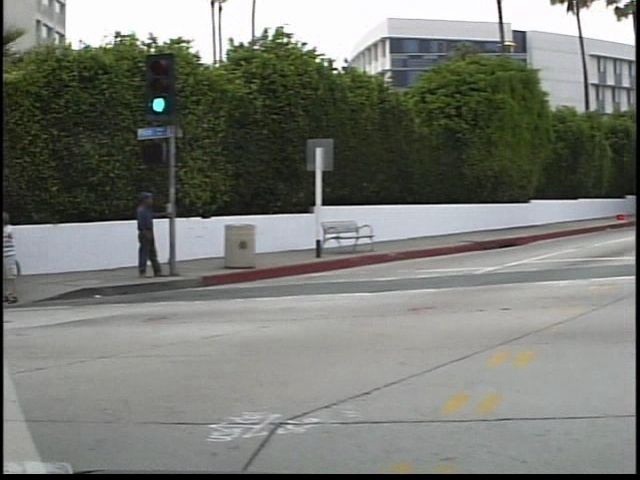person: (129, 187, 169, 285)
